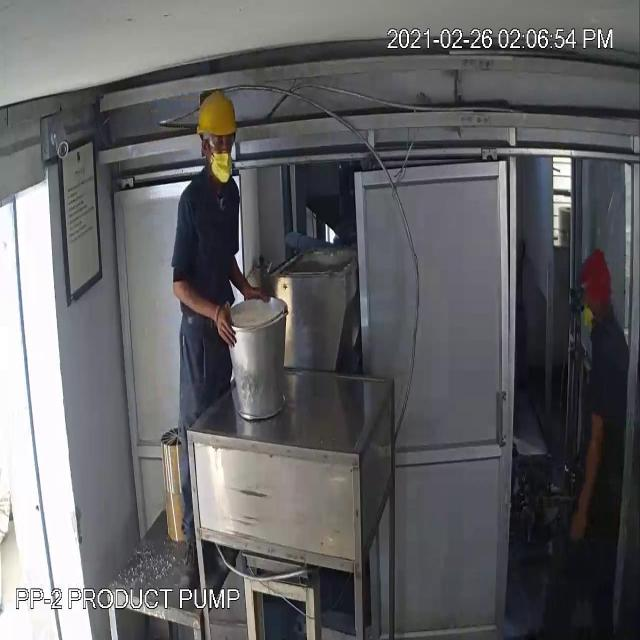helmet: (192, 92, 242, 154)
